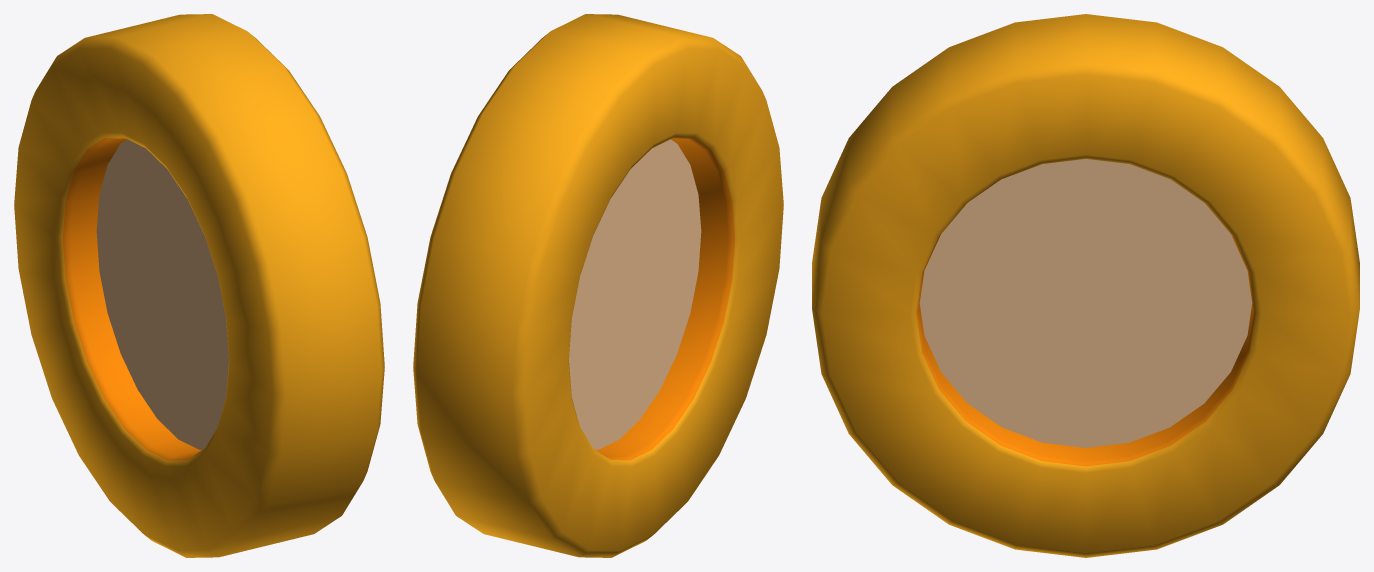
Rendered from Coin_V2_01.fbx.
The picture shows the model from 3 angles, left to right: view 1: azimuth 30°, elevation 25°; view 2: azimuth 150°, elevation 25°; view 3: azimuth 270°, elevation 25°; orthographic projection. The views are drawn at different scales.
Parts seen in each view (by area): view 1: Coin_V2_01; view 2: Coin_V2_01; view 3: Coin_V2_01.
Part boxes in pixels (left/top/right/bottom): Coin_V2_01: left=14, top=14, right=384, bottom=557; Coin_V2_01: left=413, top=14, right=783, bottom=557; Coin_V2_01: left=812, top=14, right=1359, bottom=557.
Size of the model in its own units: 10.36 by 43 by 43.
